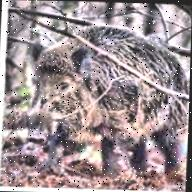boar: (6, 23, 191, 188)
